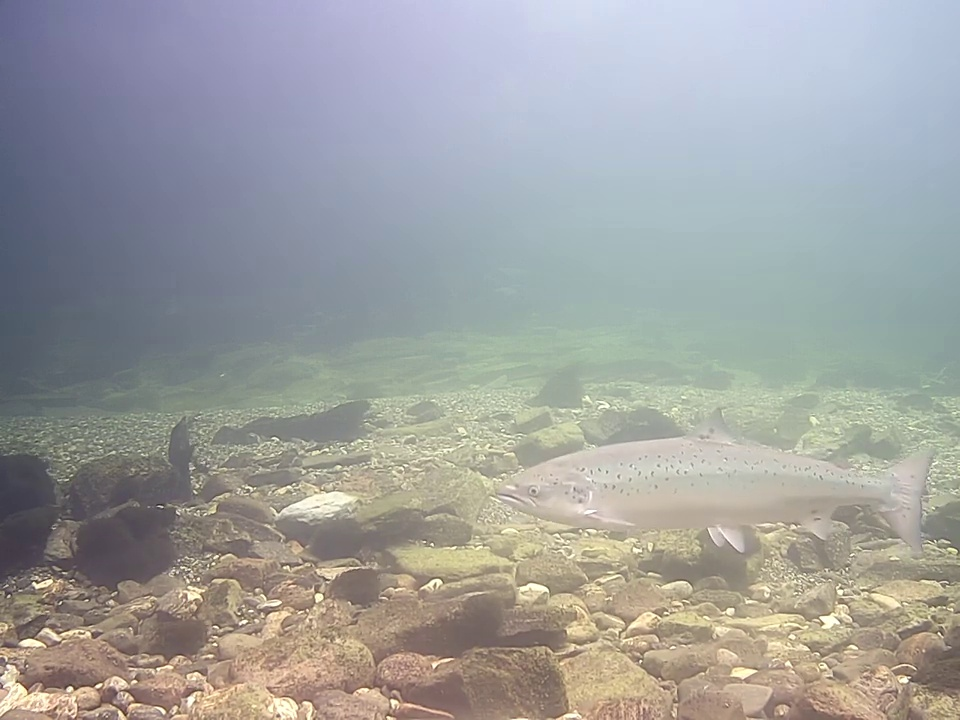salmon: (493, 405, 943, 559)
